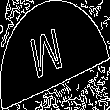M_S: (35, 24, 75, 86)
